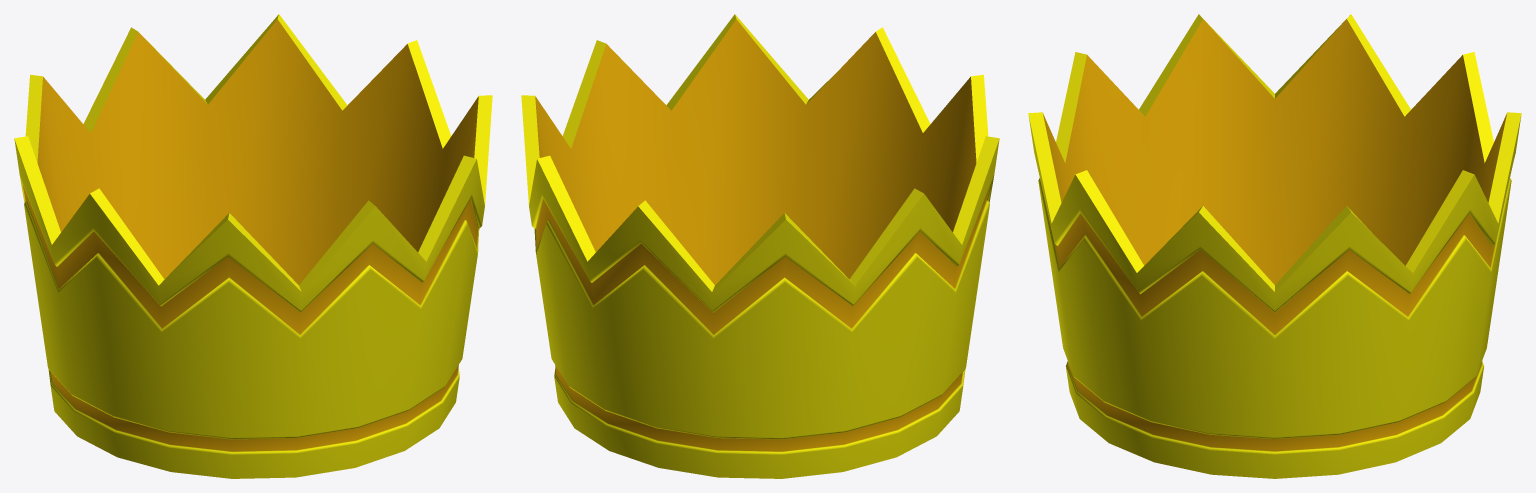
The model's file is crown.fbx.
3 views of the same model, side by side, from view 1: azimuth 30°, elevation 25°; view 2: azimuth 150°, elevation 25°; view 3: azimuth 270°, elevation 25° (orthographic).
Parts seen in each view (by area): view 1: crown_mesh; view 2: crown_mesh; view 3: crown_mesh.
Part boxes in pixels (left/top/right/bottom): crown_mesh: left=14, top=14, right=492, bottom=478; crown_mesh: left=521, top=14, right=999, bottom=478; crown_mesh: left=1028, top=14, right=1521, bottom=478.
Bounding box in the file's own units: 1.7 × 1.12 × 1.79.
